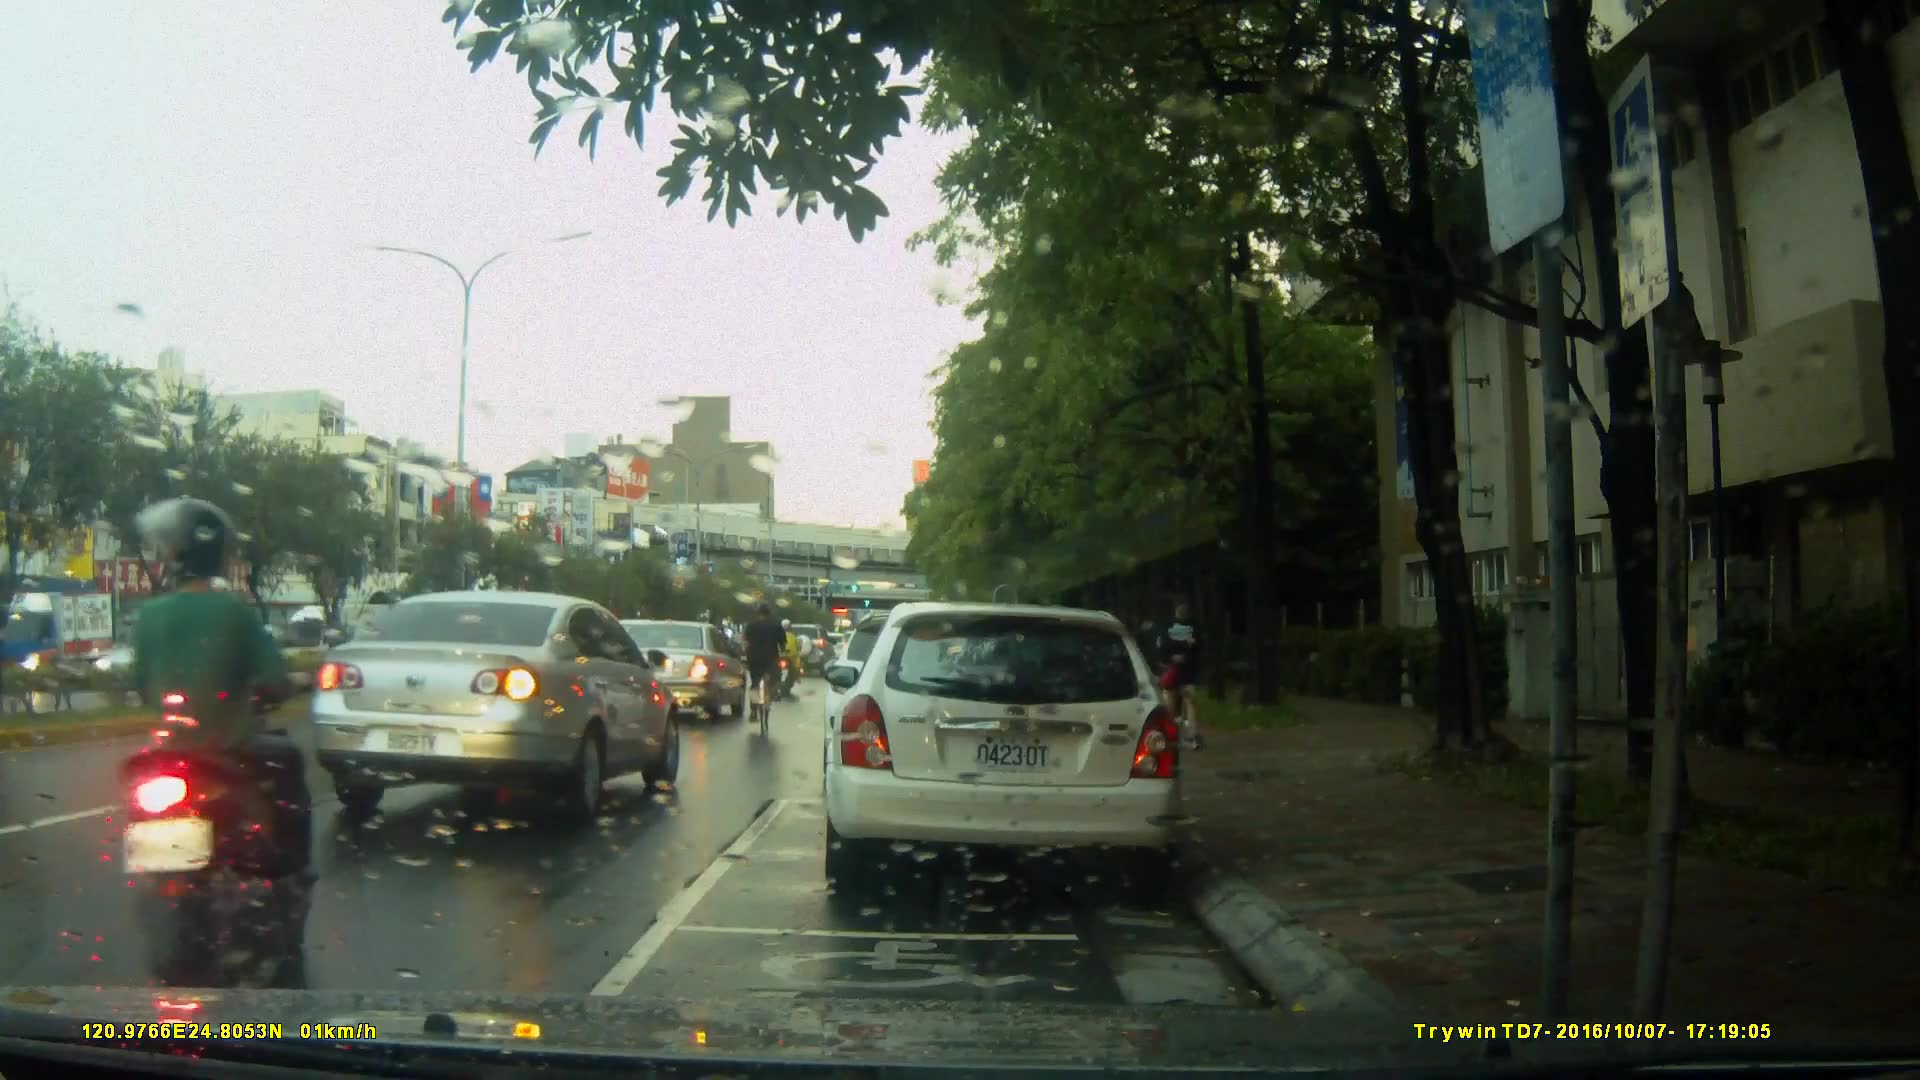pedestrian: (1154, 600, 1205, 733), (1156, 600, 1207, 730)
rider: (132, 503, 304, 1001), (740, 602, 790, 753), (774, 614, 806, 700)
vehicle: (820, 602, 1188, 898), (308, 589, 686, 827), (591, 621, 749, 727), (1, 587, 130, 699)
